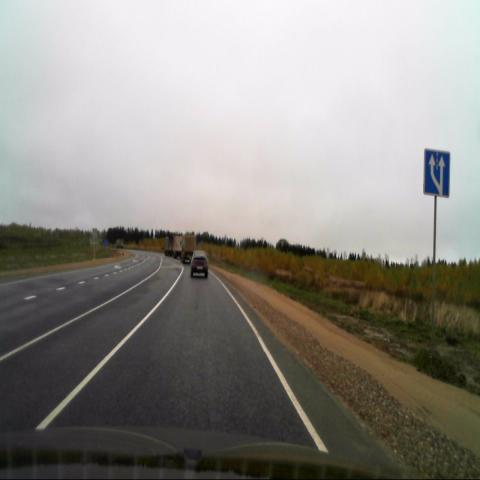5_15_3: (423, 148, 451, 196)
